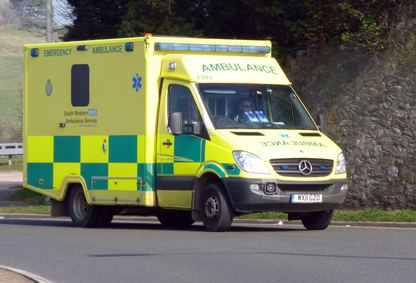ambulance: (19, 31, 349, 231)
